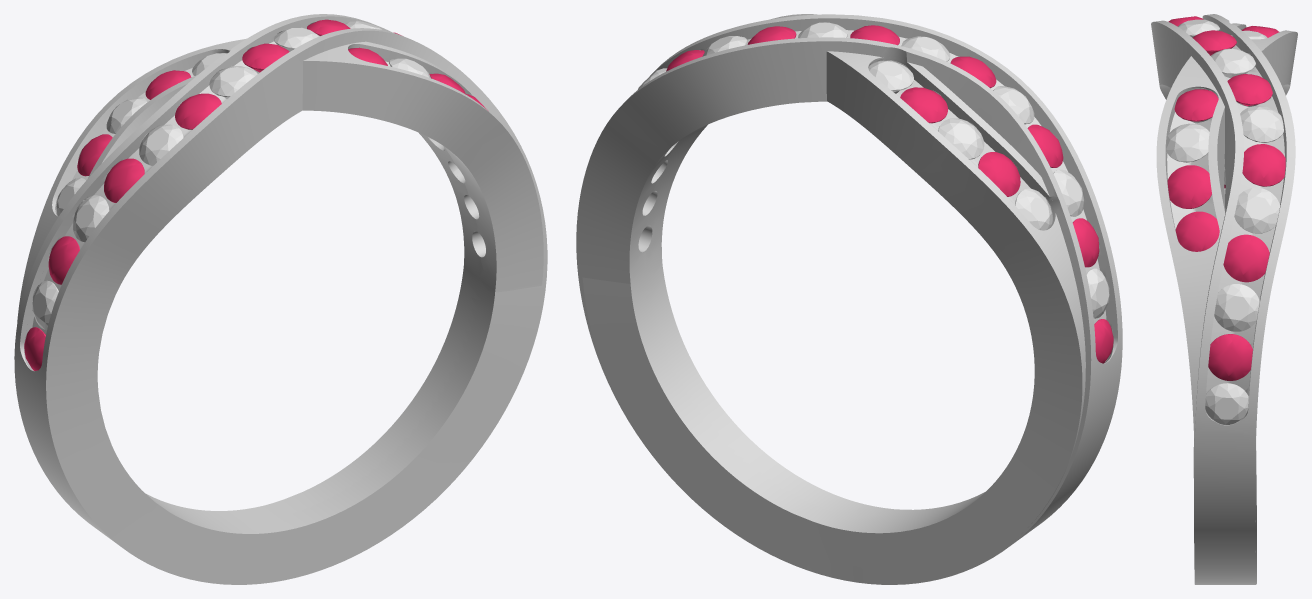
File: LeahXPT.glb
The picture shows the model from 3 angles, left to right: view 1: azimuth 30°, elevation 25°; view 2: azimuth 150°, elevation 25°; view 3: azimuth 270°, elevation 25°; orthographic projection. The views are drawn at different scales.
Parts seen in each view (by area): view 1: Leah PT for 3d model, Leah ruby for 3d model, Leah dia for 3d model.006, Leah dia for 3d model.005, Leah dia for 3d model.007, Leah dia for 3d model.004, Leah dia for 3d model.002; view 2: Leah PT for 3d model, Leah ruby for 3d model, Leah dia for 3d model.002, Leah dia for 3d model.003, Leah dia for 3d model.001, Leah dia for 3d model.005, Leah dia for 3d model.004, Leah dia for 3d model.006; view 3: Leah PT for 3d model, Leah ruby for 3d model, Leah dia for 3d model.011, Leah dia for 3d model.010, Leah dia for 3d model.012, Leah dia for 3d model, Leah dia for 3d model.009, Leah dia for 3d model.008, Leah dia for 3d model.007.
Part boxes in pixels (x1,y1,x2,y2): Leah PT for 3d model: (14, 14, 547, 584); Leah ruby for 3d model: (24, 19, 487, 370); Leah dia for 3d model.006: (139, 124, 183, 165); Leah dia for 3d model.005: (73, 195, 109, 242); Leah dia for 3d model.007: (209, 66, 256, 97); Leah dia for 3d model.004: (32, 280, 58, 329); Leah dia for 3d model.002: (106, 97, 147, 133); Leah PT for 3d model: (576, 14, 1122, 584); Leah ruby for 3d model: (666, 25, 1113, 363); Leah dia for 3d model.002: (938, 118, 984, 159); Leah dia for 3d model.003: (1015, 188, 1052, 230); Leah dia for 3d model.001: (868, 60, 913, 92); Leah dia for 3d model.005: (1053, 169, 1083, 216); Leah dia for 3d model.004: (1086, 268, 1109, 318); Leah dia for 3d model.006: (993, 86, 1034, 124); Leah PT for 3d model: (1151, 14, 1297, 584); Leah ruby for 3d model: (1167, 16, 1285, 380); Leah dia for 3d model.011: (1214, 284, 1259, 331); Leah dia for 3d model.010: (1234, 187, 1280, 233); Leah dia for 3d model.012: (1205, 383, 1248, 424); Leah dia for 3d model: (1166, 123, 1209, 162); Leah dia for 3d model.009: (1240, 105, 1283, 142); Leah dia for 3d model.008: (1211, 48, 1255, 78); Leah dia for 3d model.007: (1178, 19, 1219, 37).
Bounding box in the file's own units: 21.34 × 21.33 × 5.52.
